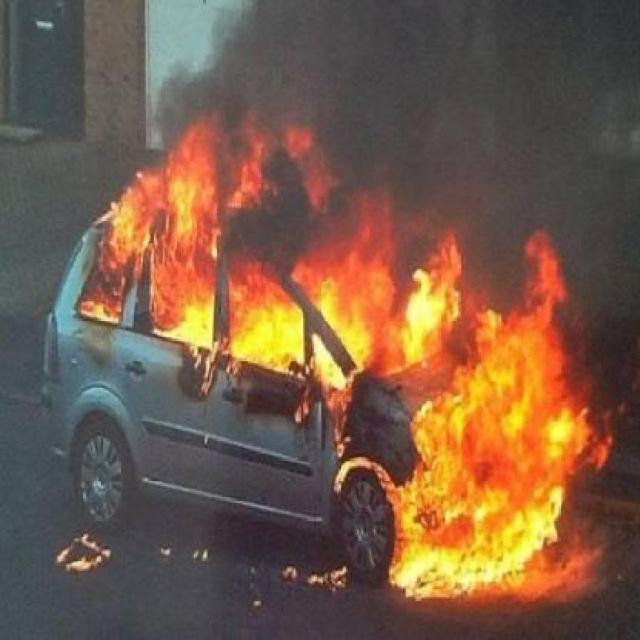Fire: (88, 126, 628, 640)
